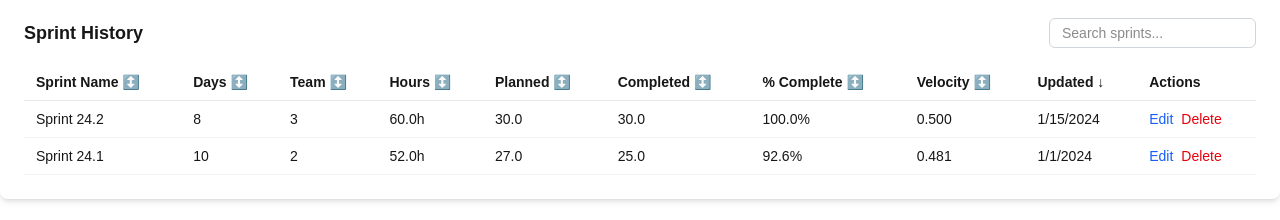
Test: SprintHistory › should show no results message when search yields no matches
Type "nonexistent" into the field with placeholder "Search sprints..." at (1152, 33), box left=1049, top=18, right=1256, bottom=48
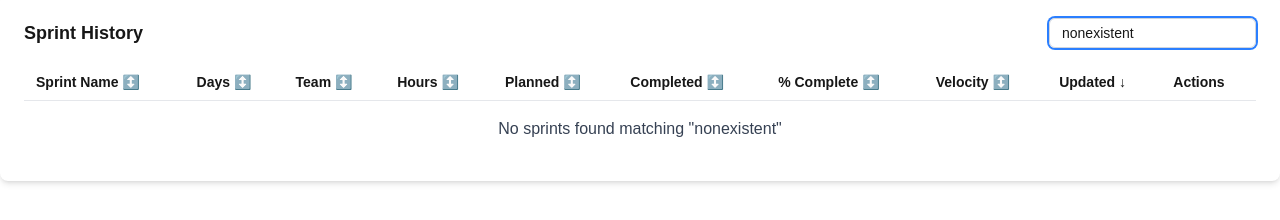
Expected: the text "No sprints found matching \"nonexistent\"" is shown, left=498, top=120, right=782, bottom=137
